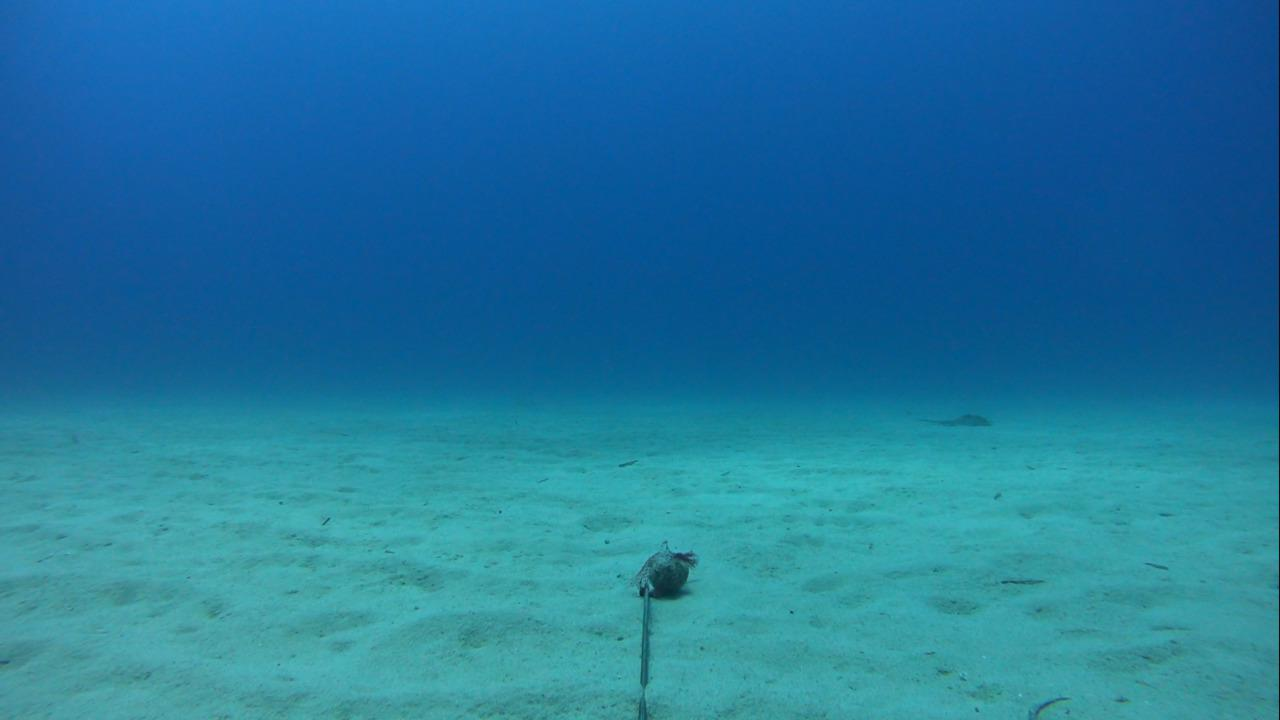myliobatis: (891, 404, 989, 431)
